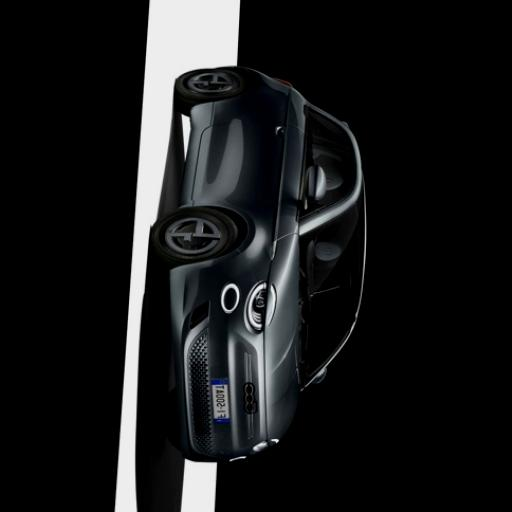hatchback: (148, 68, 362, 462)
